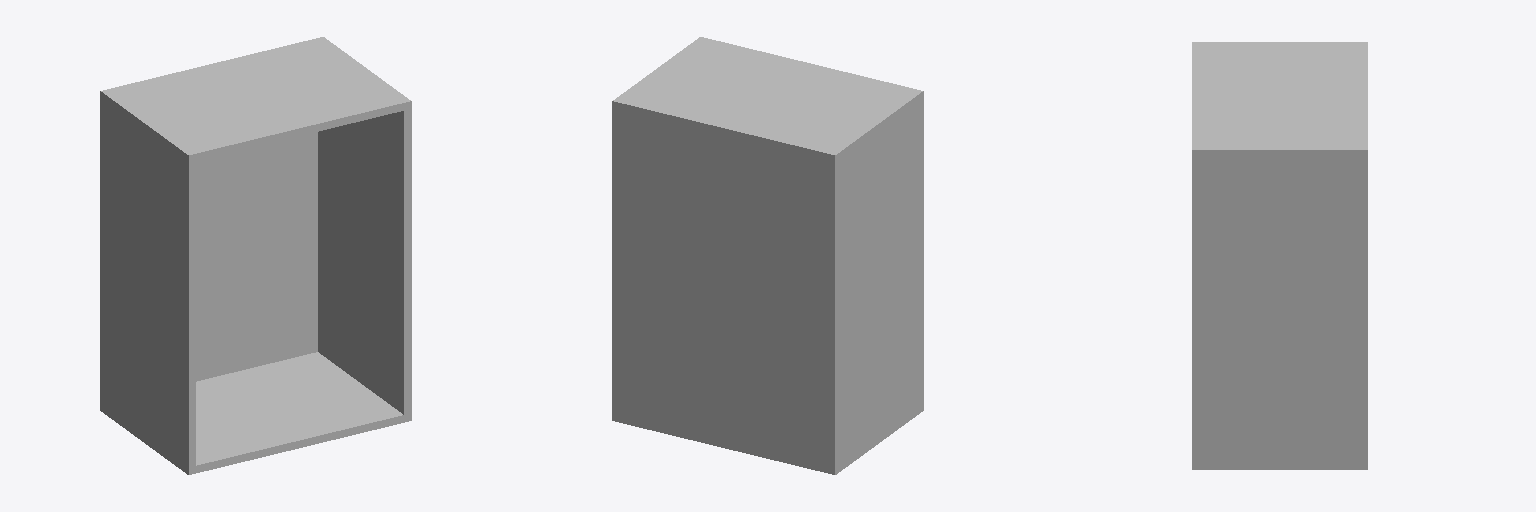
Rendered from basket.obj.
3 views of the same model, side by side, from view 1: azimuth 30°, elevation 25°; view 2: azimuth 150°, elevation 25°; view 3: azimuth 270°, elevation 25° (orthographic).
Bounding box in the file's own units: 0.345 × 0.473 × 0.236.